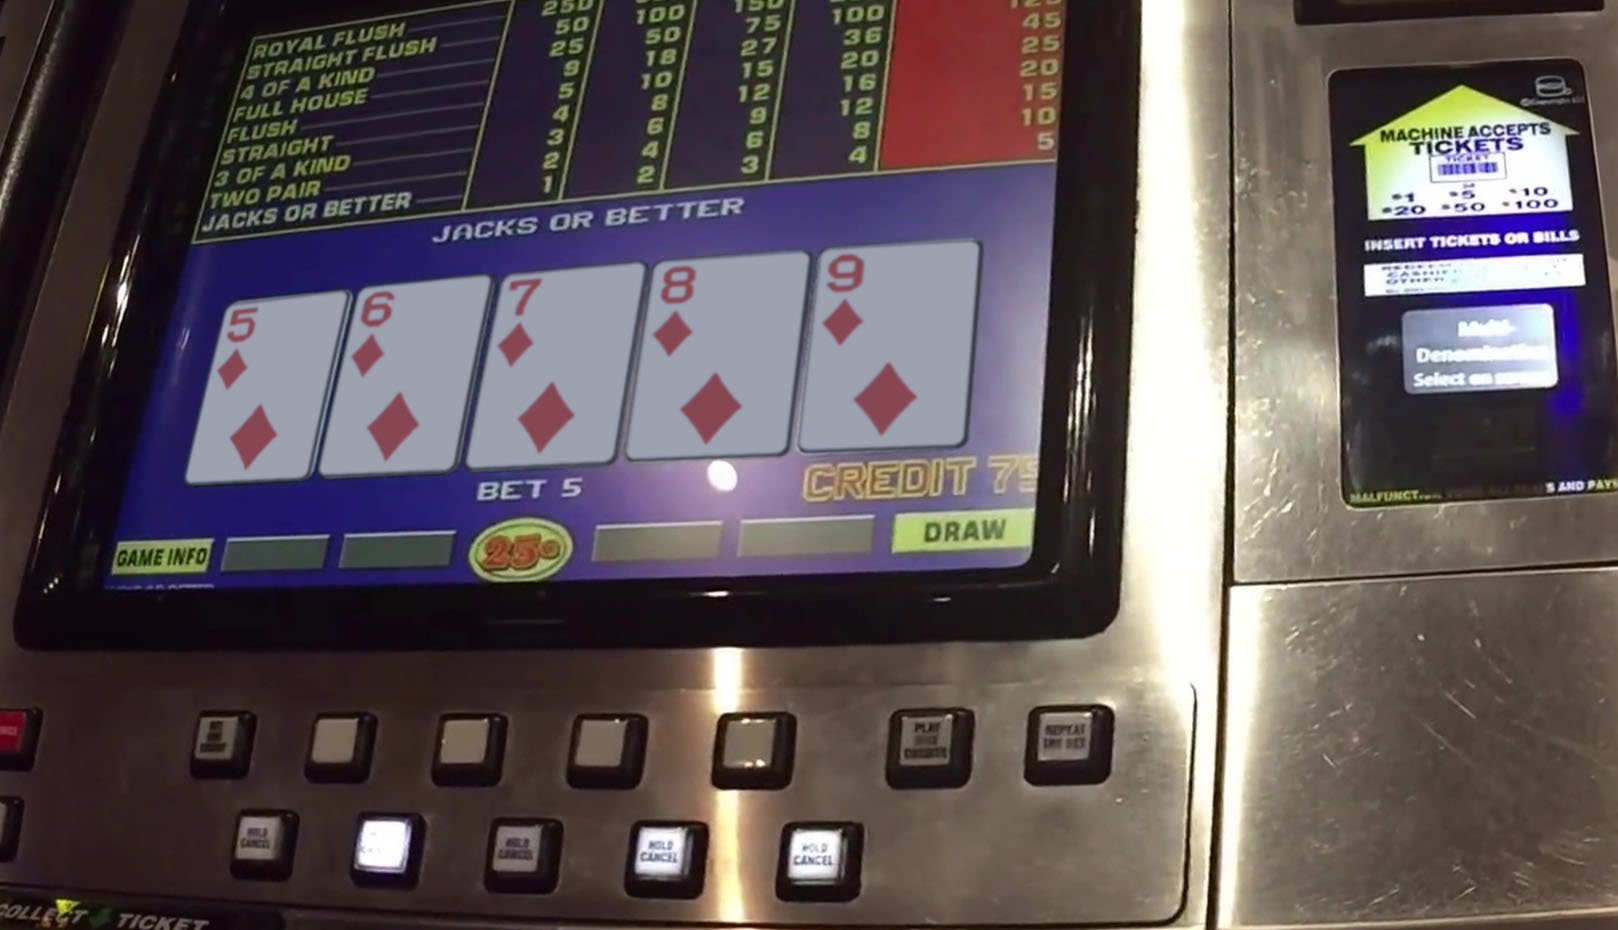D5: (217, 299, 340, 394)
D6: (352, 284, 471, 382)
D7: (495, 268, 637, 376)
D8: (653, 258, 795, 371)
D9: (816, 248, 973, 357)
